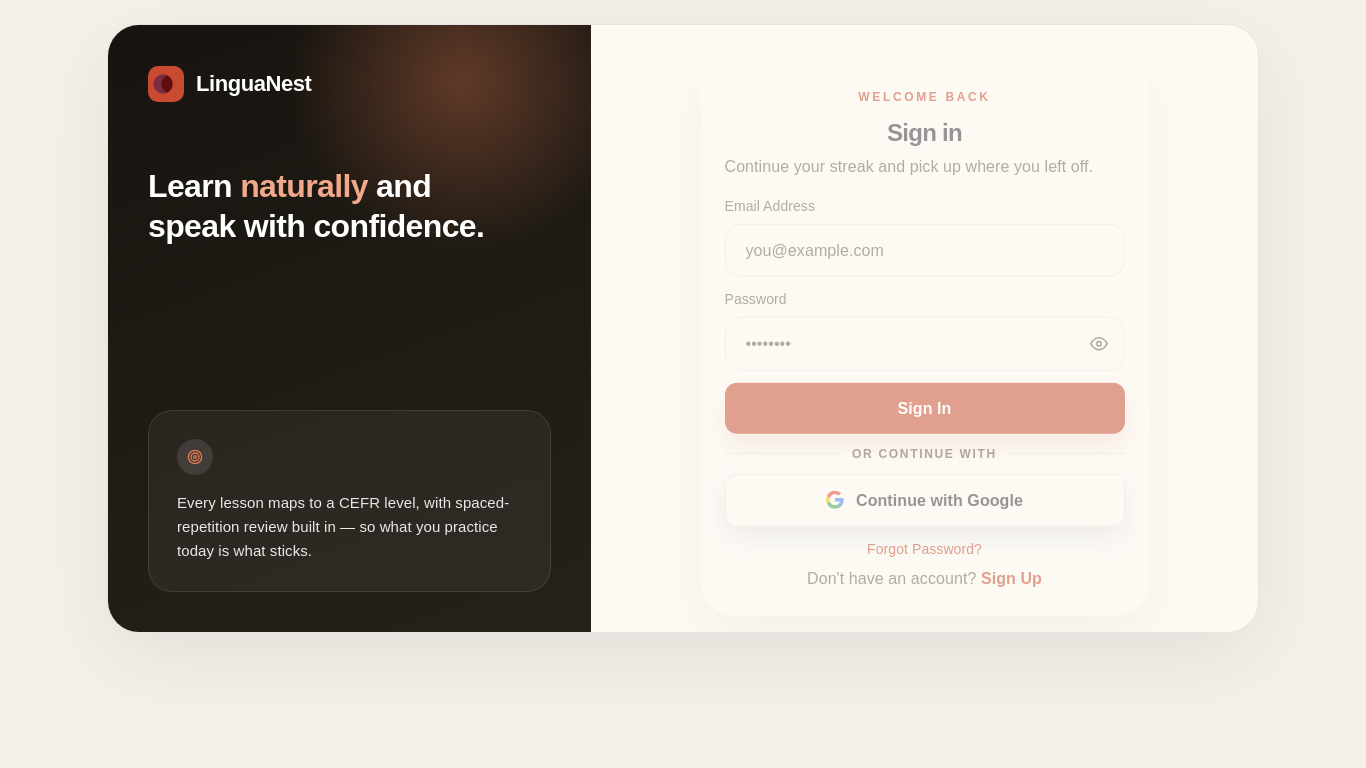
Test: Login › shows the server error message on a failed login and does not navigate
This screenshot has width=1366, height=768.
In the field labelled "Email Address": (924, 250) [724, 224, 1124, 277], type "ada@example.com"
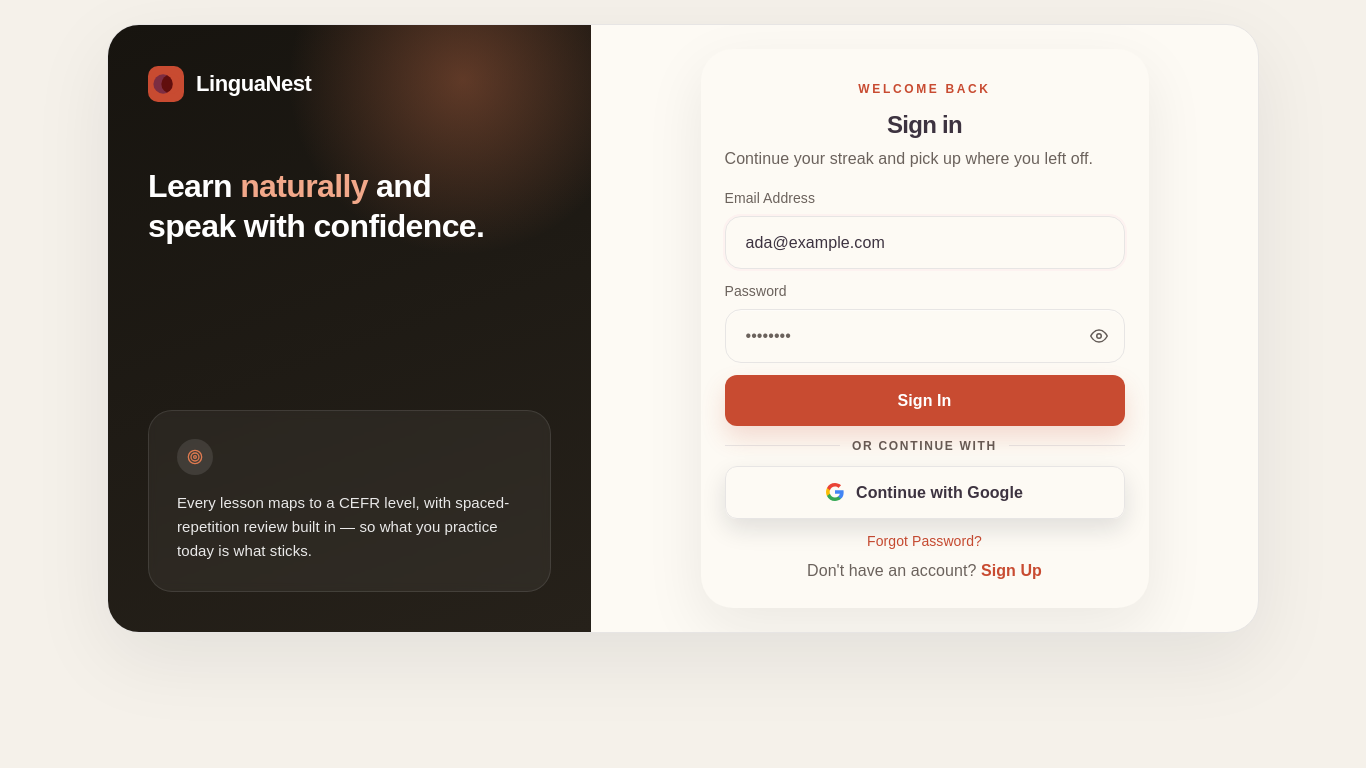
In the password field labelled "Password": (924, 336) [724, 309, 1124, 363], type "correct-horse"
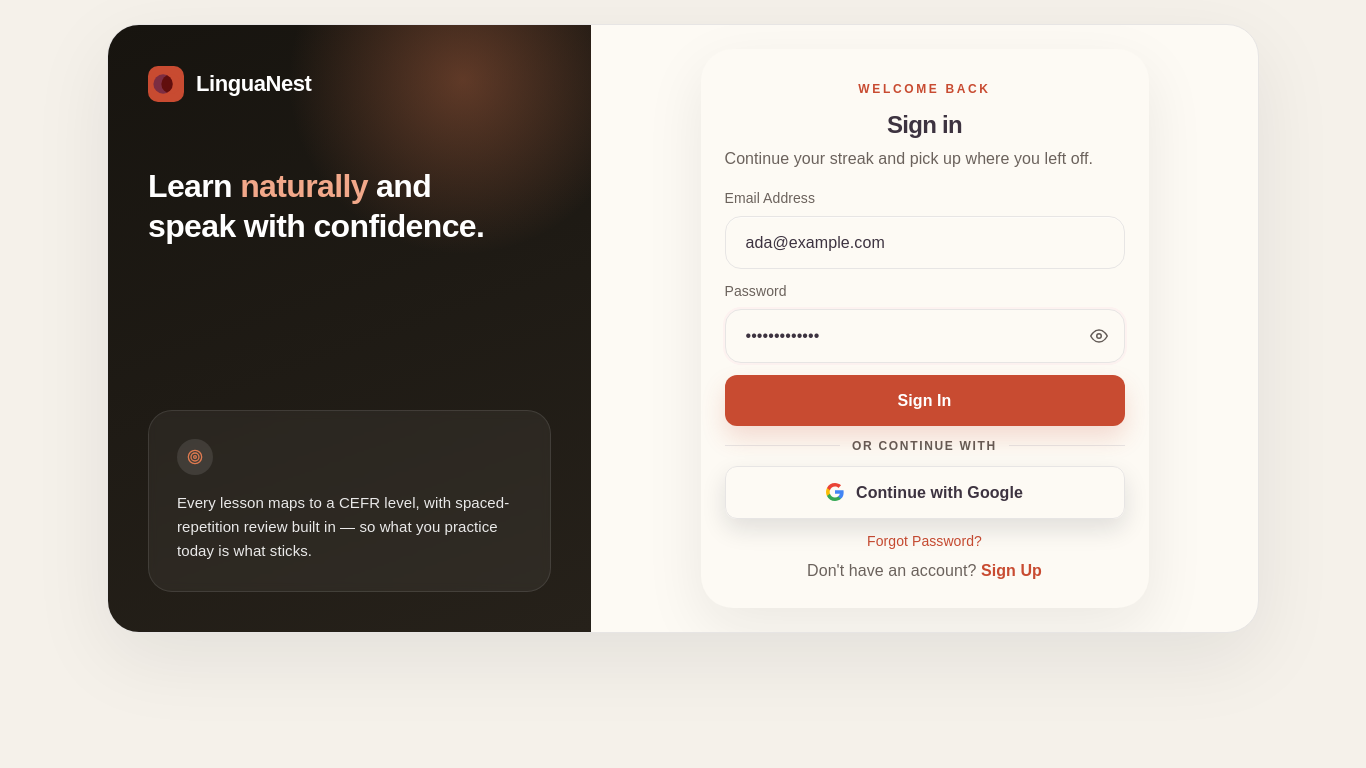
Click the button "Sign In": (924, 400) [724, 375, 1124, 426]
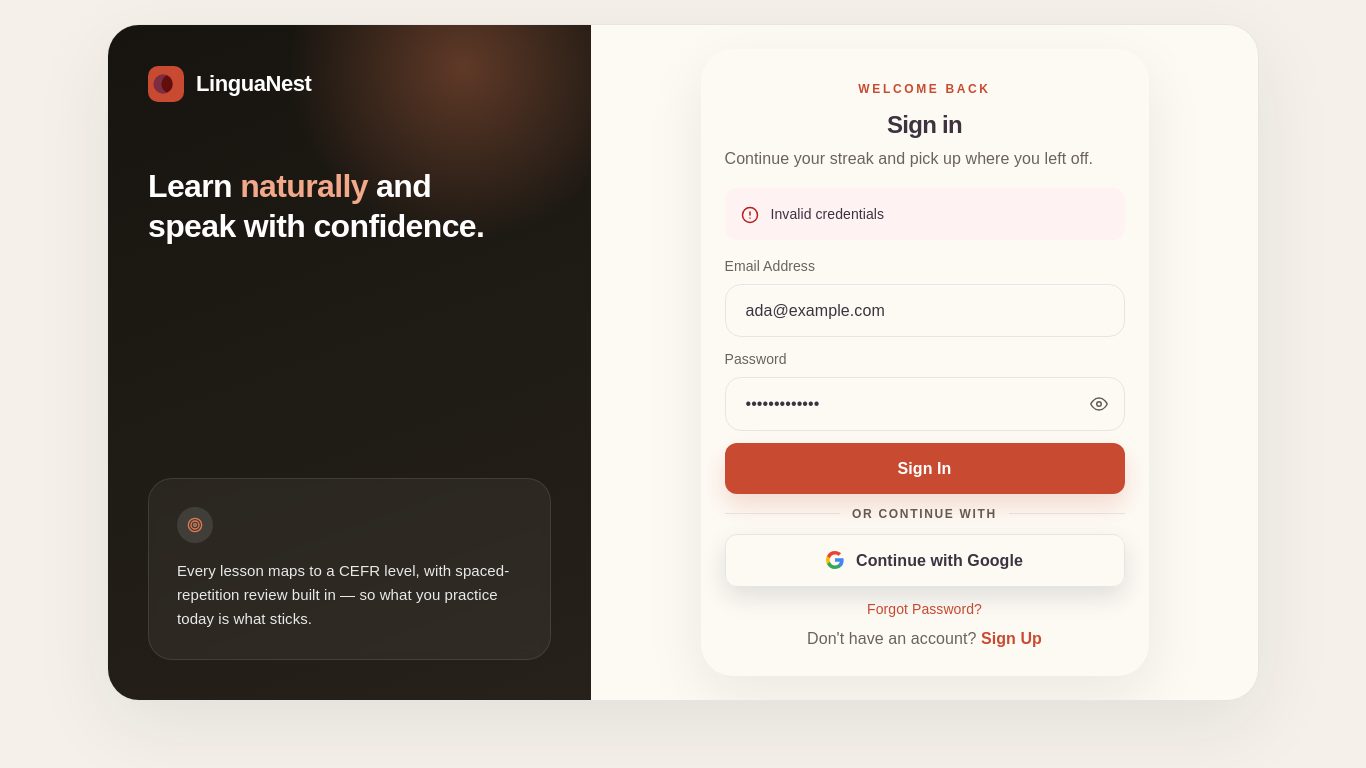
expect the message reads "Invalid credentials": met, box [770, 206, 884, 222]
